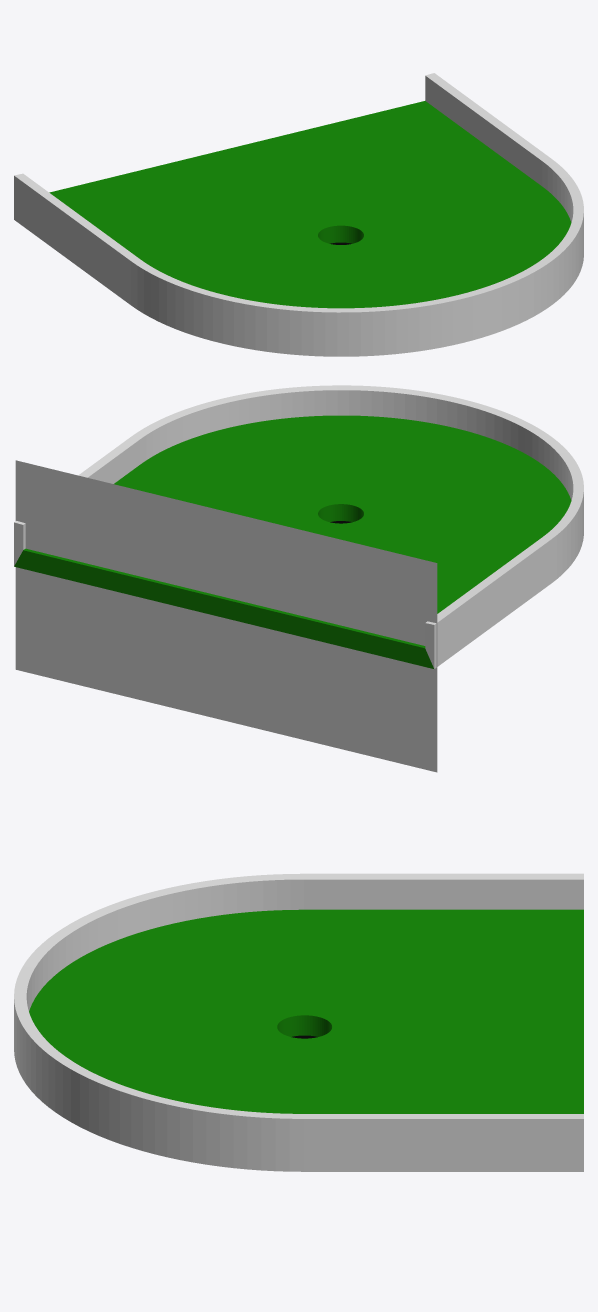
Rendered from soft_end.glb.
3 renders of one model, top to bottom at view 1: azimuth 30°, elevation 25°; view 2: azimuth 150°, elevation 25°; view 3: azimuth 270°, elevation 25°, orthographic. The views are drawn at different scales.
Parts seen in each view (by area): view 1: Cylinder; view 2: obj_snap.001, Cylinder; view 3: Cylinder.
Boxes of the visible parts, x1,y1,x2,y2 form: Cylinder: (14,73,583,356); obj_snap.001: (15,460,437,772); Cylinder: (14,385,583,669); Cylinder: (14,873,583,1171).
Size of the model in its own units: 4.21 by 2 by 4.13.
